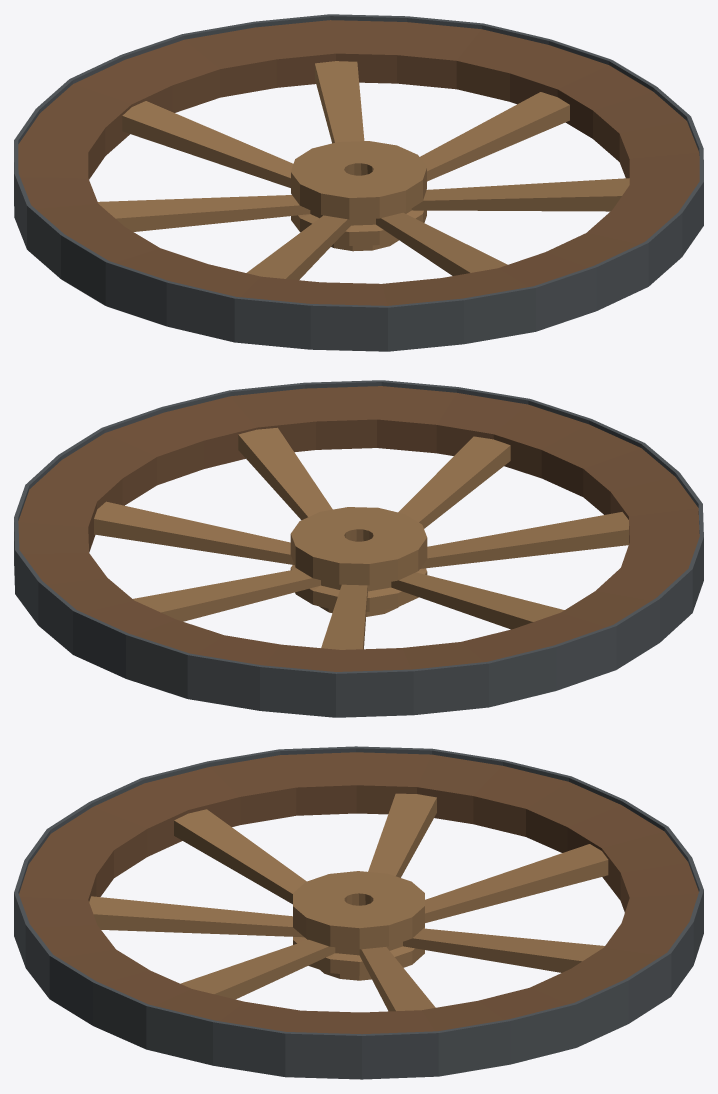
The model's file is Wheel_Simple.fbx.
3 renders of one model, top to bottom at view 1: azimuth 30°, elevation 25°; view 2: azimuth 150°, elevation 25°; view 3: azimuth 270°, elevation 25°, orthographic.
Parts seen in each view (by area): view 1: wheel; view 2: wheel; view 3: wheel.
Boxes of the visible parts, <box> form: wheel: <box>14,14,703,351</box>; wheel: <box>14,380,703,717</box>; wheel: <box>14,746,703,1079</box>.
Size of the model in its own units: 71.73 by 8.16 by 72.25.
